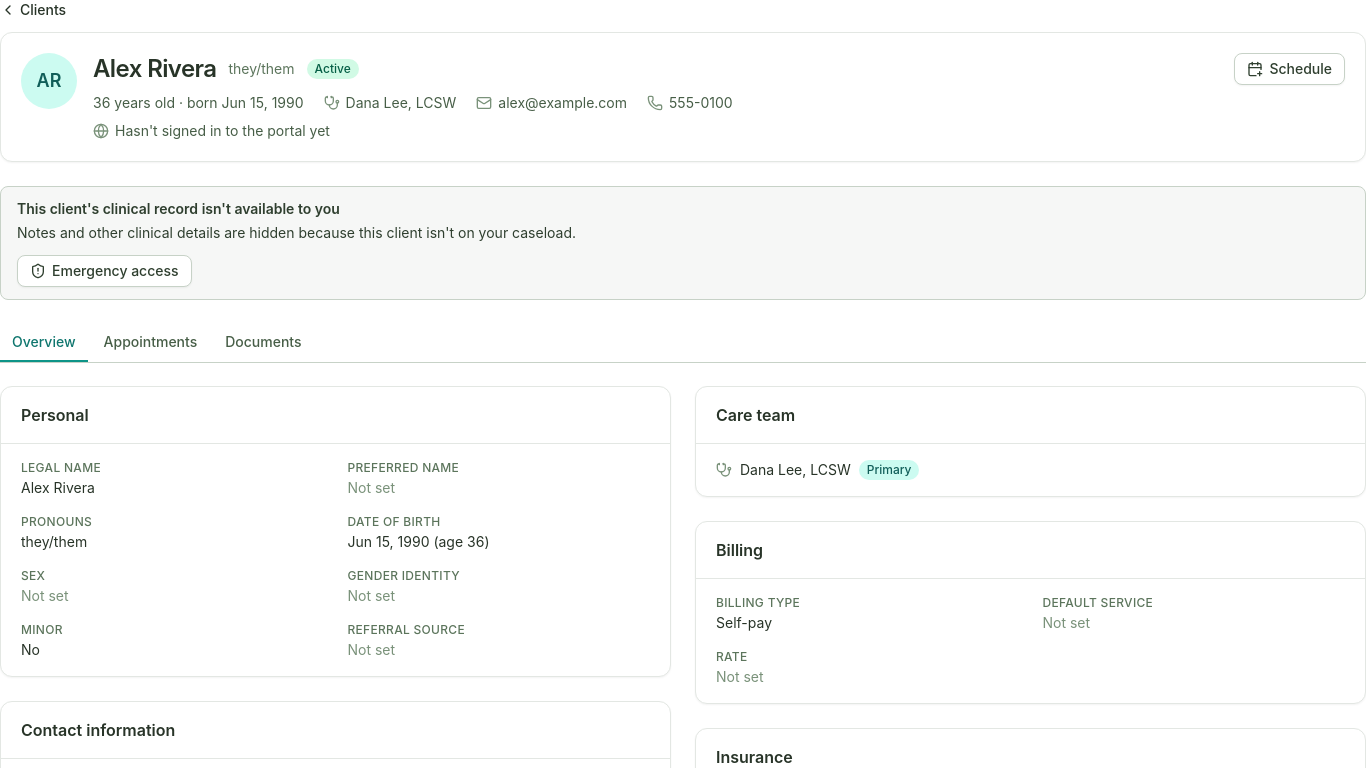
Test case: ClientDetailPage › emergency access › offers it when a clinician sees the profile but not the clinical record, and shows the server's refusal
Expected: the text "This client's clinical record isn't available to you" is shown, [17, 200, 340, 217]
Click the button "Emergency access".
click(104, 271)  # box [17, 255, 192, 287]
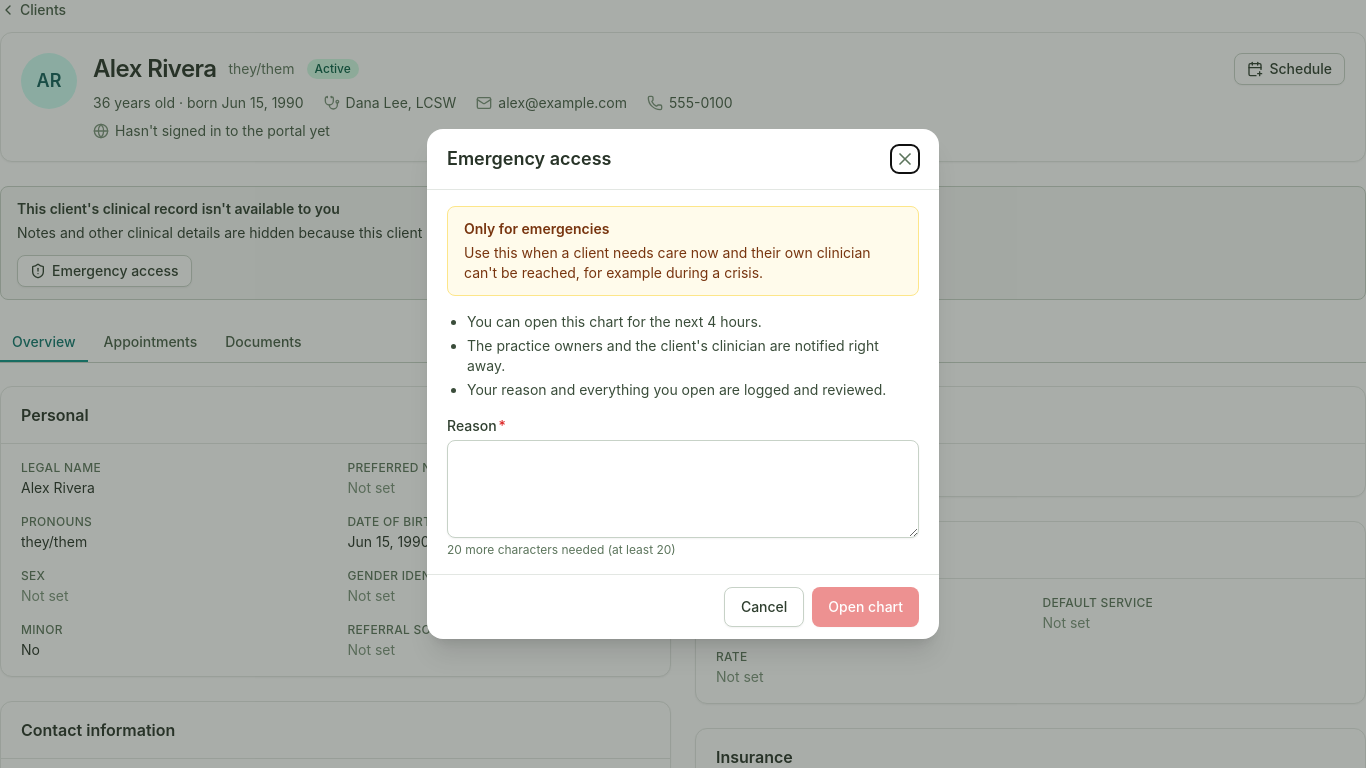
Type "Crisis call, clinician unreachable" into the text box labelled "Reason*".
click(683, 489); type("Crisis call, clinician unreachable")  # box [447, 440, 919, 538]
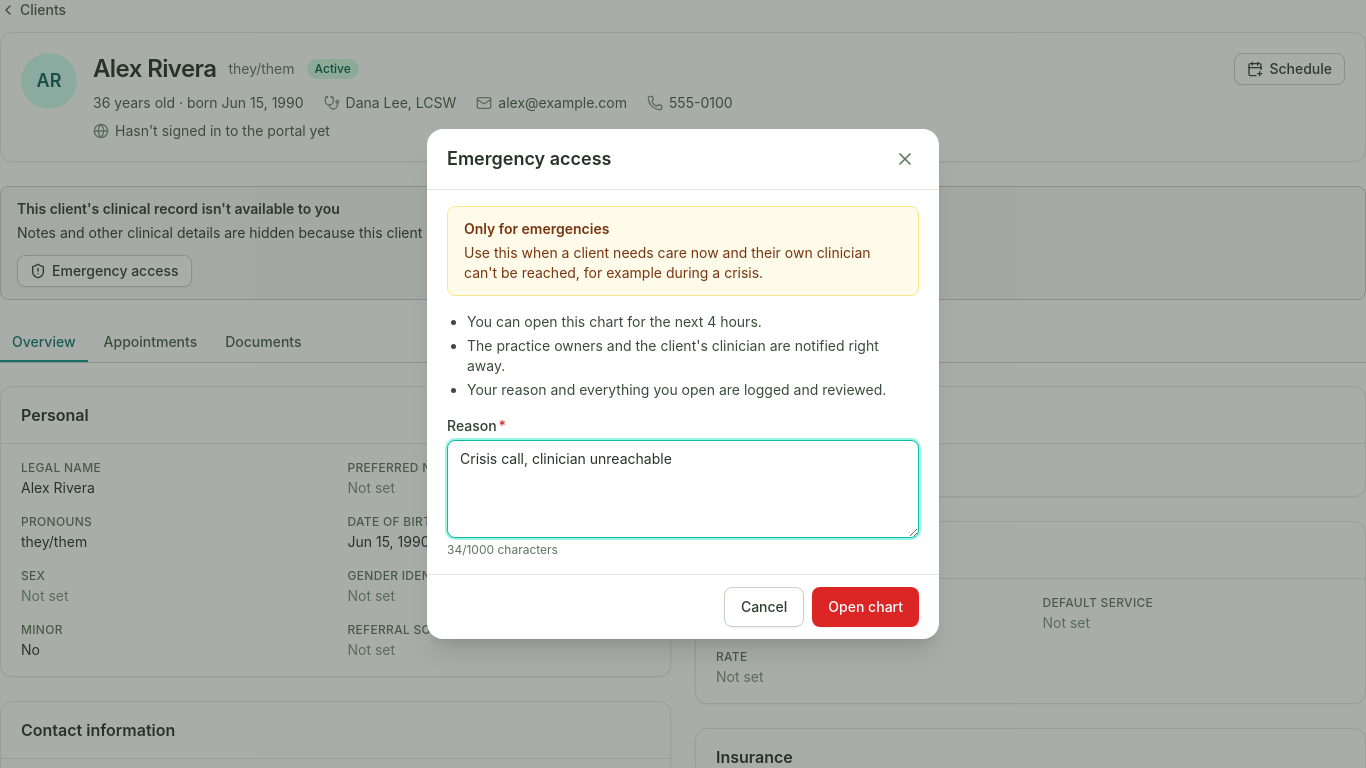
Click the button "Open chart".
click(866, 607)  # box [812, 587, 919, 627]
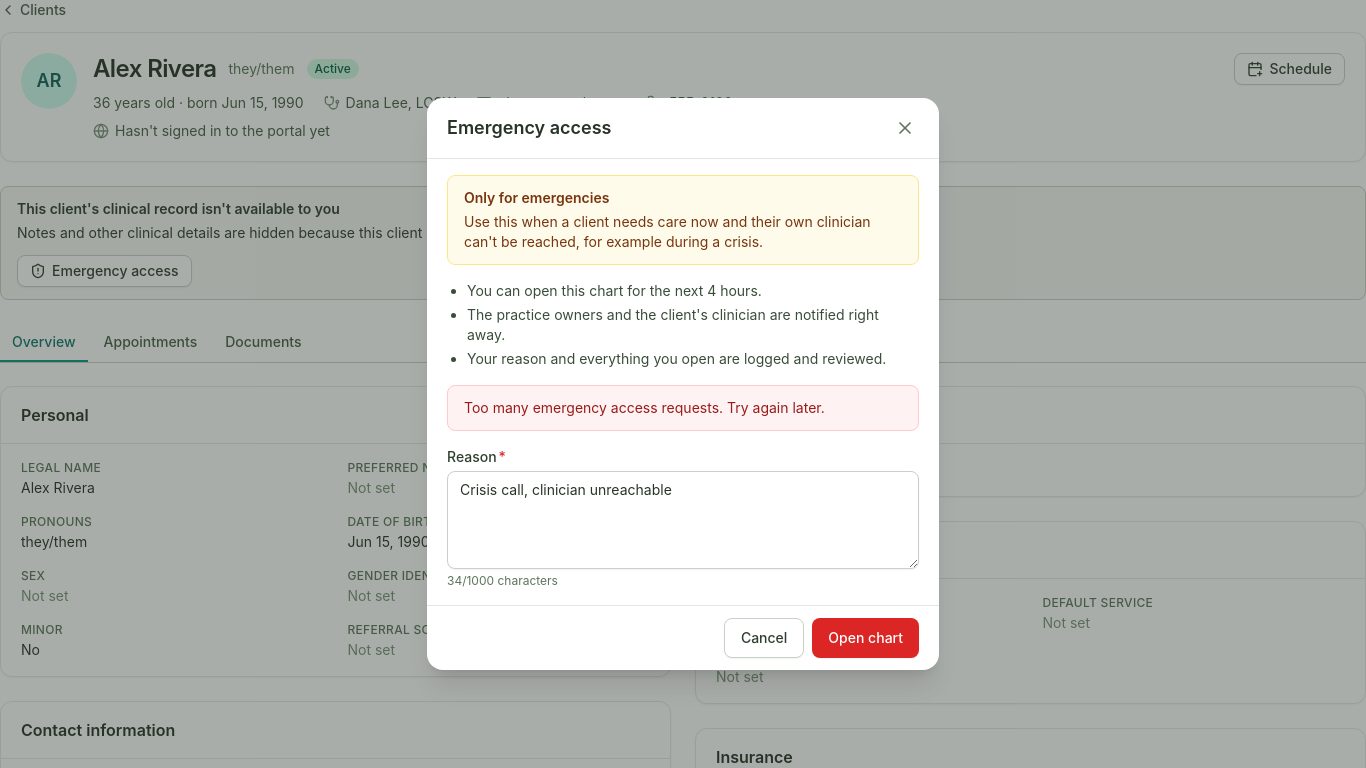
Result: the text "Too many emergency access requests. Try again later." is shown at [464, 399, 825, 416]
